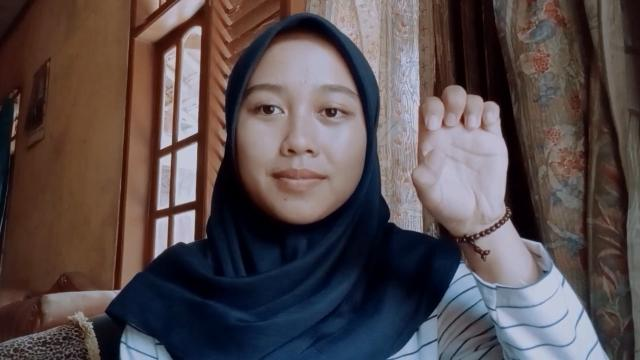E: (410, 84, 512, 232)
